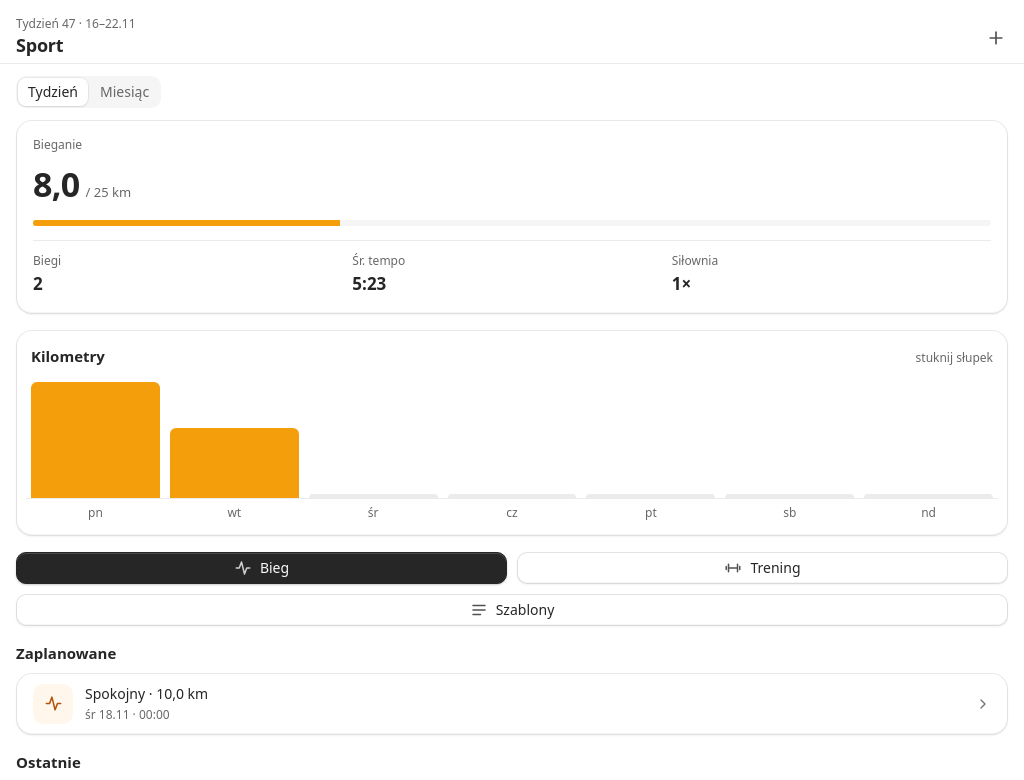
Test: MSport › wykres tygodnia: słupek na dzień, stuknięcie pokazuje wartość
Expected: the text "stuknij słupek" is shown, [916,350,993,366]
Click the button named "wt: 3,0 km".
click(234, 438)  # box [165,379,304,498]
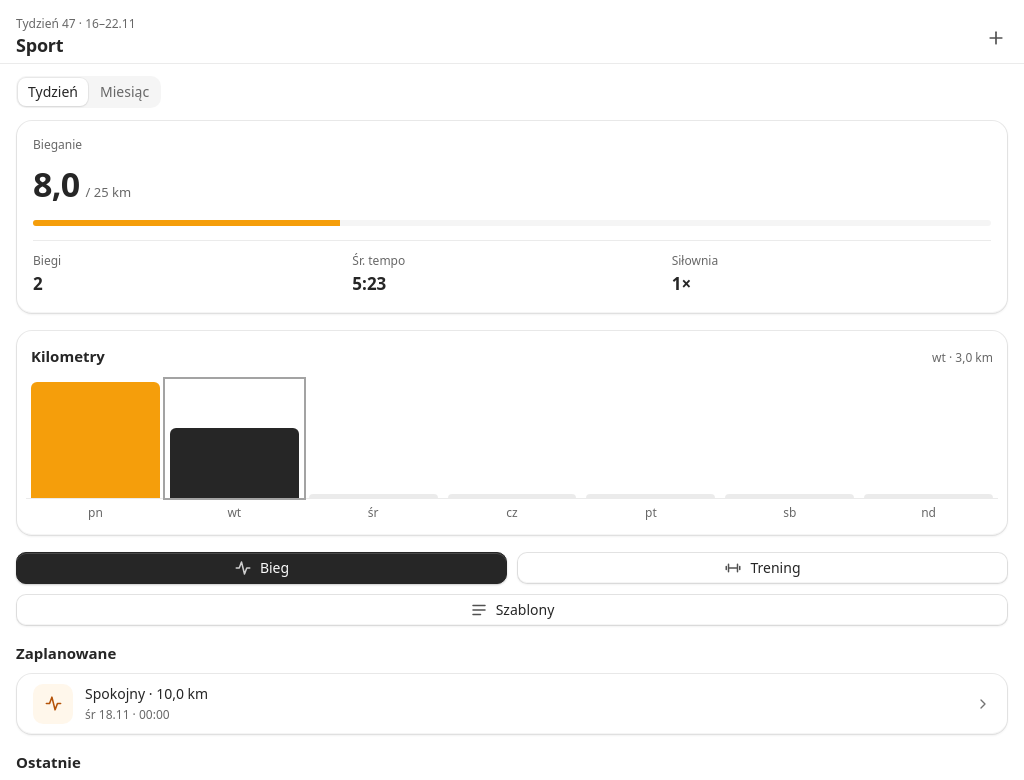
Expected: the text "wt · 3,0 km" is shown, [932,350,993,366]
